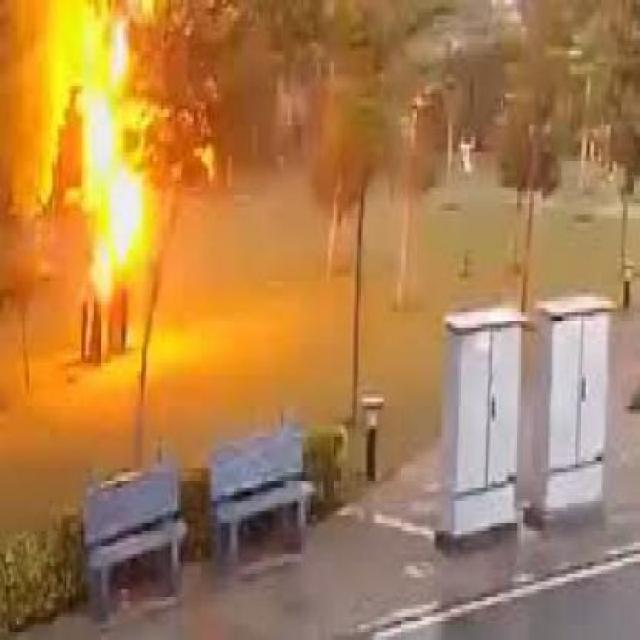Fire: (88, 97, 148, 297), (115, 23, 128, 82)
